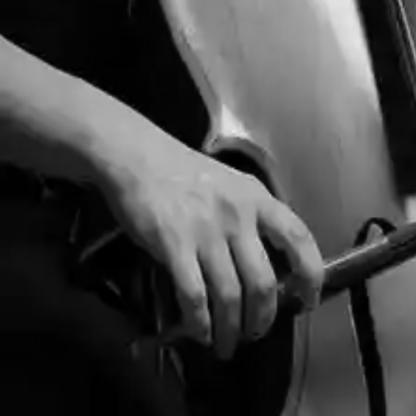good: (145, 157, 347, 351)
